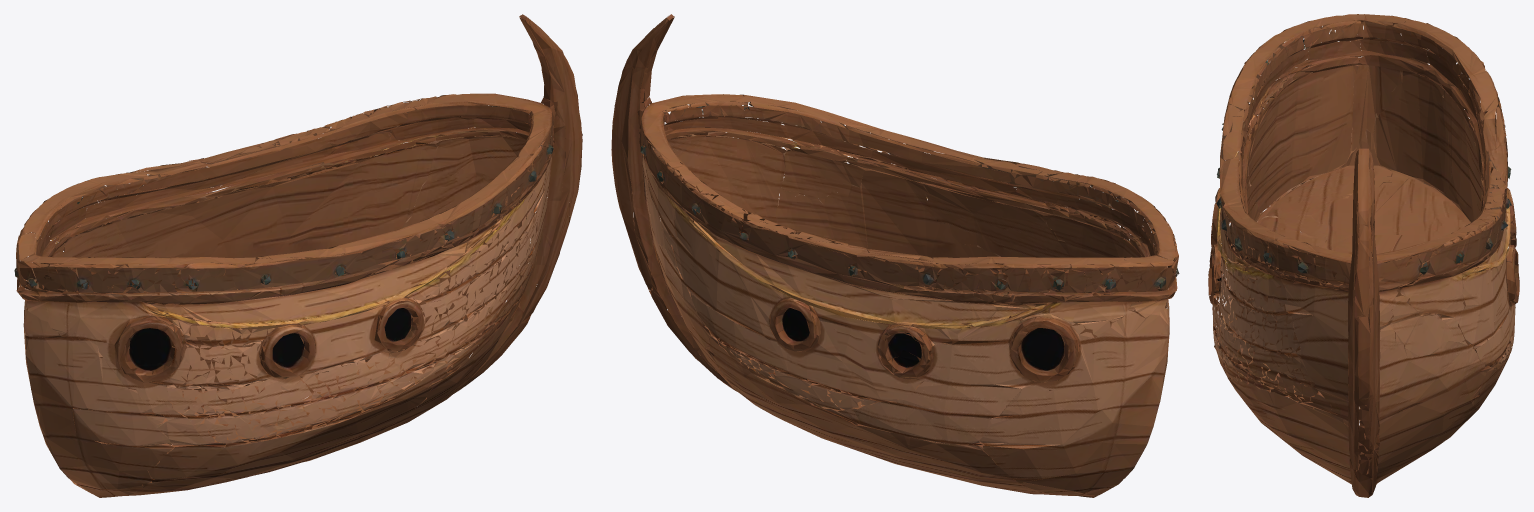
The model's file is boat.glb.
3 renders of one model, left to right at view 1: azimuth 30°, elevation 25°; view 2: azimuth 150°, elevation 25°; view 3: azimuth 270°, elevation 25°, orthographic. The views are drawn at different scales.
Parts seen in each view (by area): view 1: material; view 2: material; view 3: material.
Boxes of the visible parts, <box> form: material: <box>14,14,582,497</box>; material: <box>611,14,1179,497</box>; material: <box>1208,14,1519,497</box>.
Size of the model in its own units: 1.41 by 0.92 by 0.6298.
1 material, 1 textured.
